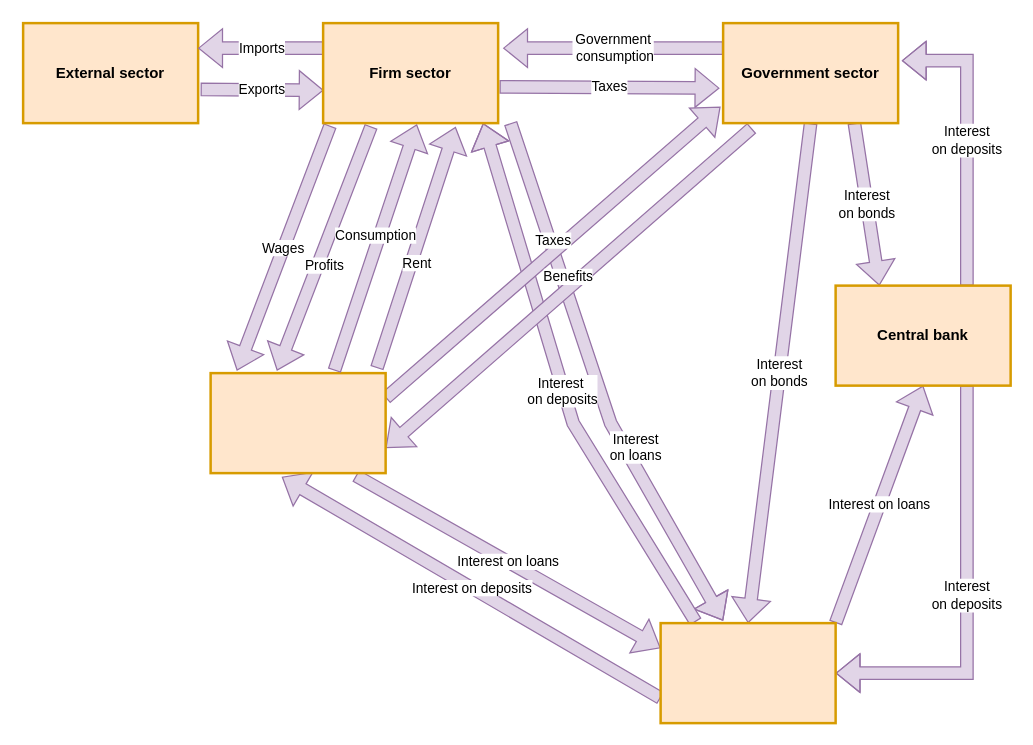
Image size: 1033x745. Some labels were removed from this diagram. Here are the shapes that lost their labels. From the top down, the box of each, then its label:
(209, 371, 386, 474): Household sector
(659, 621, 836, 724): Banking sector
